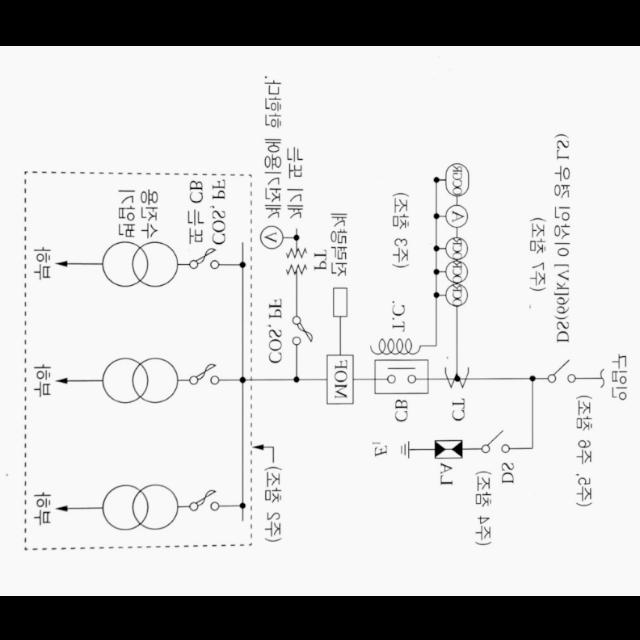A: (446, 205, 468, 227)
CB: (374, 360, 428, 392)
CT: (444, 366, 470, 388)
GND: (400, 438, 410, 458)
LA: (435, 439, 463, 456)
MOF: (326, 353, 354, 403)
PF: (190, 362, 220, 383), (190, 489, 220, 509), (190, 247, 220, 267), (294, 316, 314, 344)
PT: (286, 246, 306, 274)
V: (260, 224, 282, 248)
ds: (548, 358, 576, 382), (482, 430, 510, 452)
